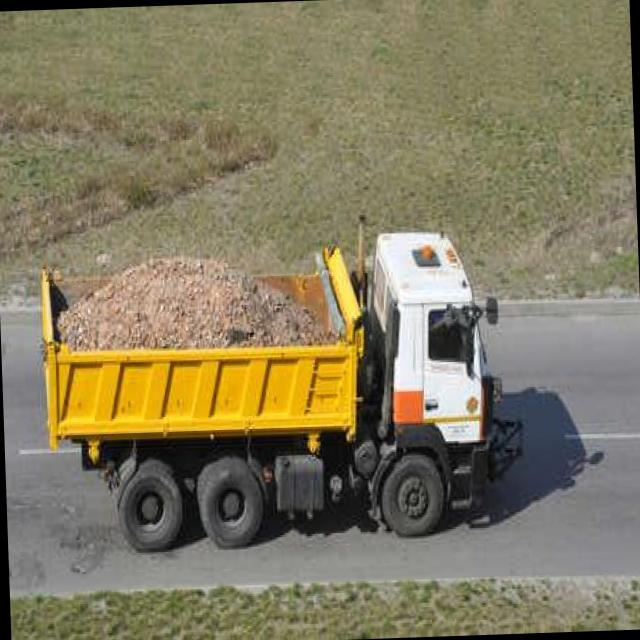Camion volquete: (32, 221, 502, 556)
